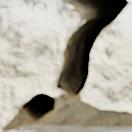brick: (11, 125, 131, 131)
crack: (0, 0, 129, 131)
